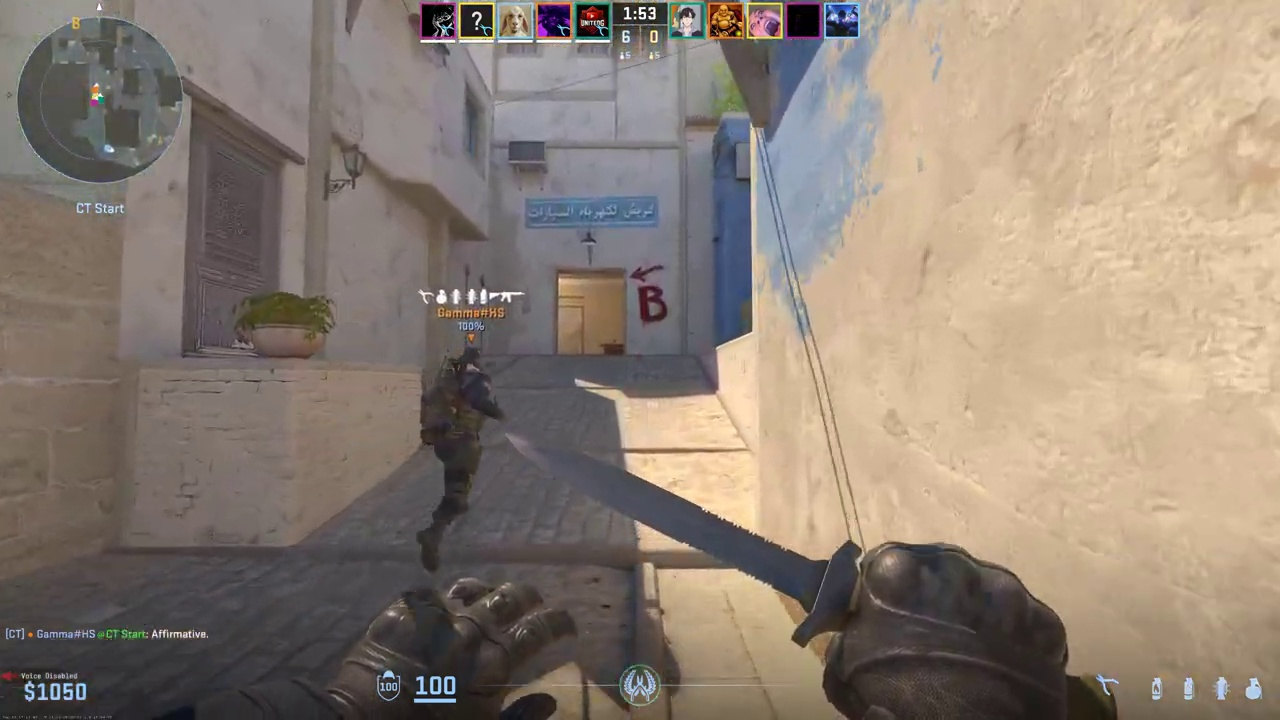CT: (417, 348, 490, 566)
